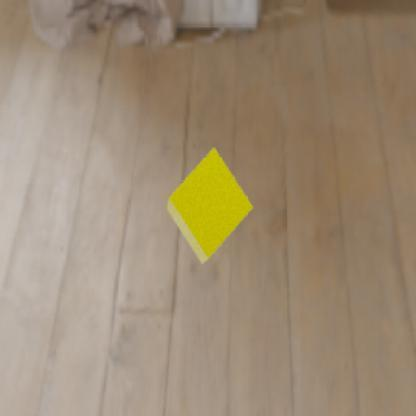cube: (165, 146, 252, 263)
